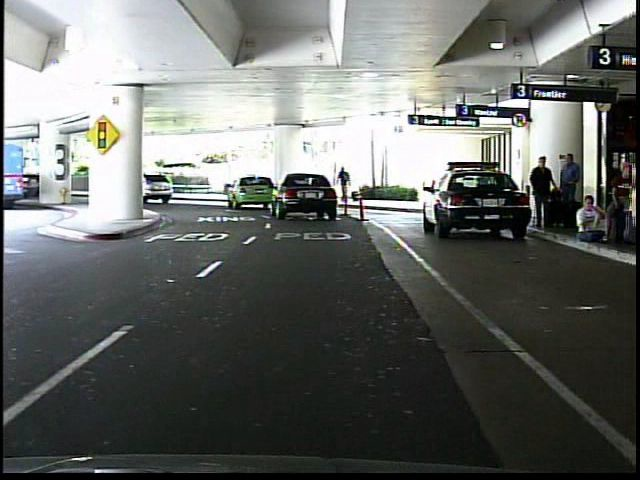person: (554, 148, 584, 230), (528, 153, 557, 230), (338, 162, 354, 205)
